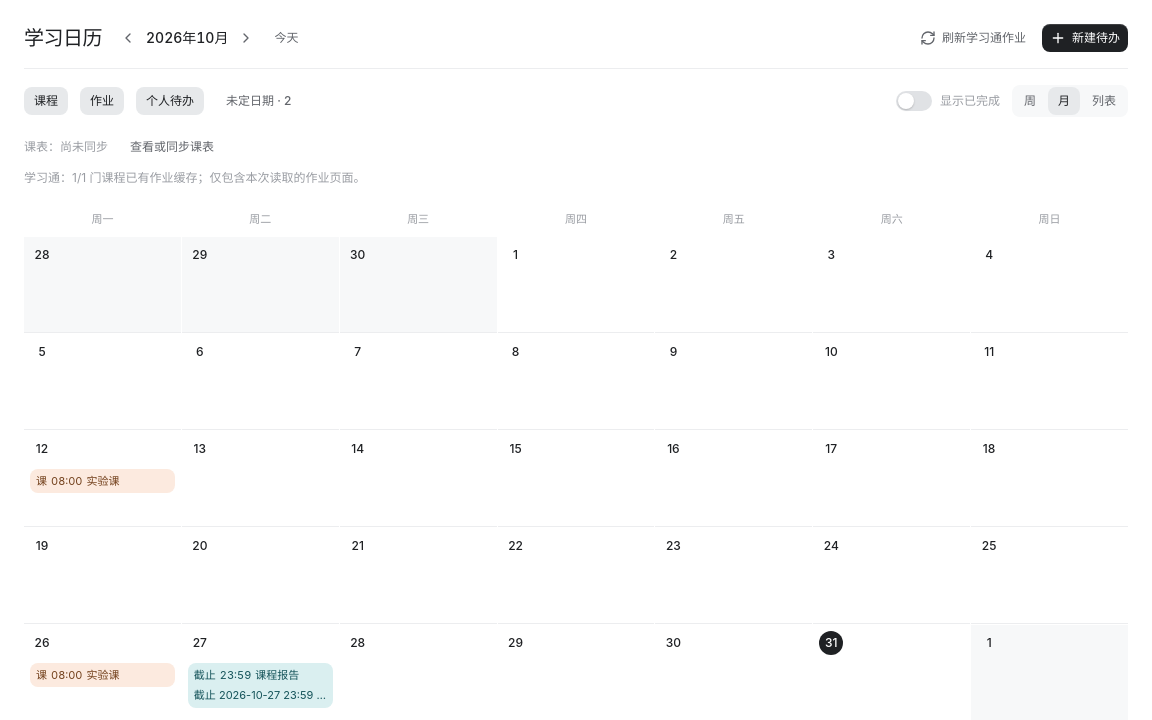
学习日历 › loads local snapshots without syncing, filters sources, and leaves relative deadlines outside day cells
Expected: the button "课 08:00 实验课" below "12" is shown, [30,468,175,493]
Expected: the element named "2026-10-27，1 项安排" shows "课程报告", [188,662,333,708]
Click the button "作业" at (102, 101), box [80,87,124,115]
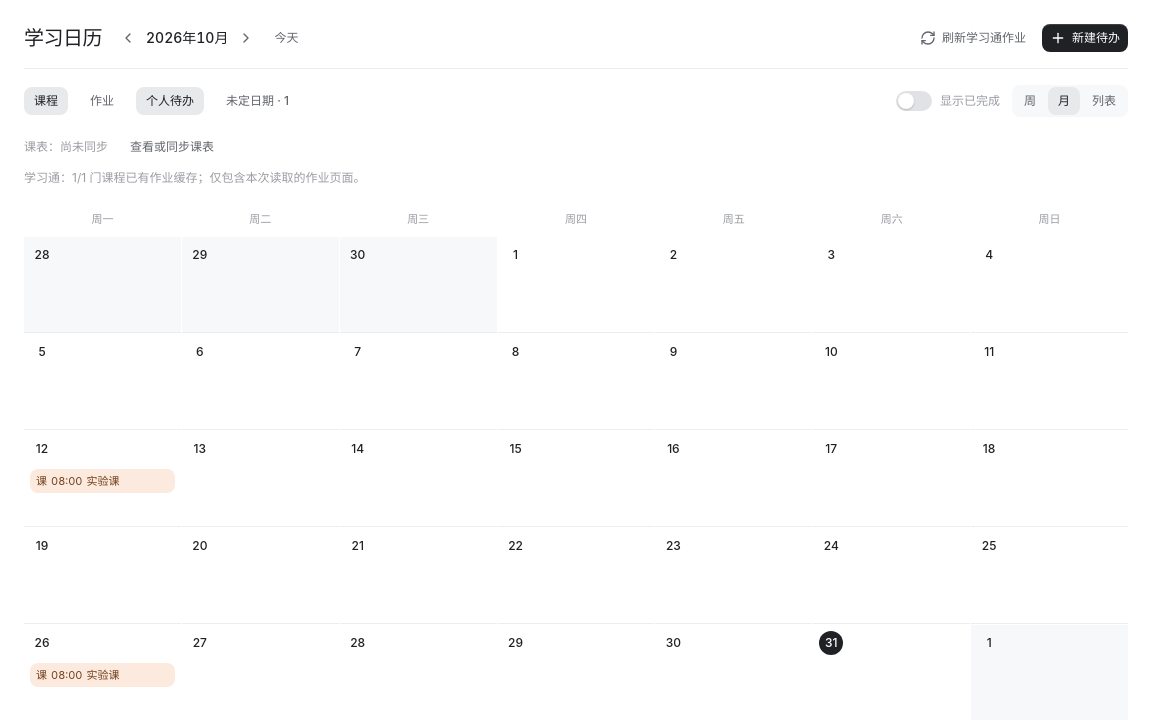
Expected: the button "课 08:00 实验课" below "12" is shown, [30,468,175,493]
Expected: the text "课程报告" is gone
Click the button "作业" at (102, 101), box [80,87,124,115]
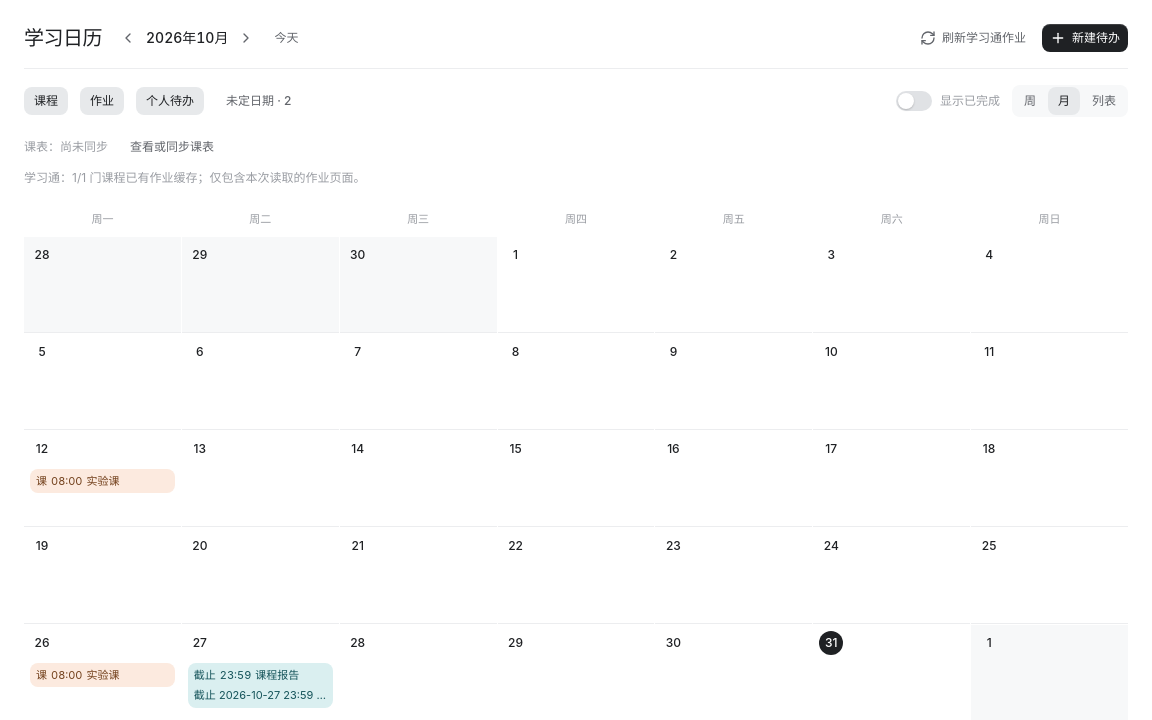
Click the switch named "显示已完成" at (914, 101), box [896,91,932,111]
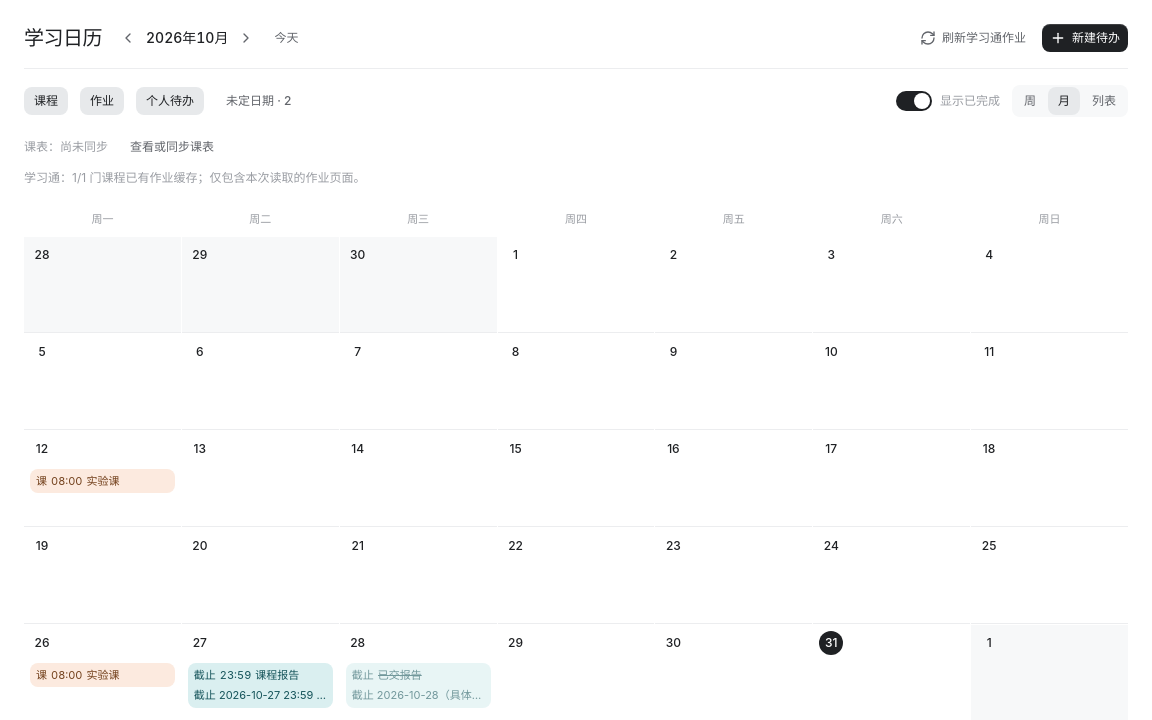
Expected: the button "课 08:00 实验课" below "12" is shown, [30,468,175,493]
Expected: the text "已交报告" is shown, [378,666,422,683]
